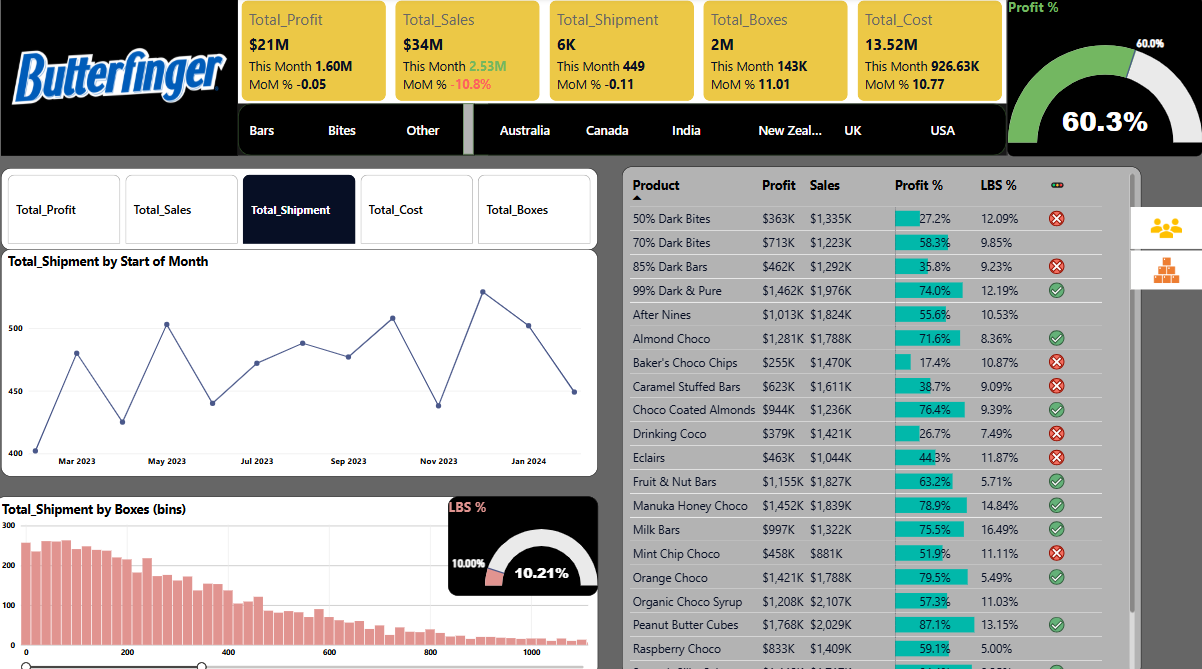

The dashboard page shown, as its layout file describes it:
{"tool":"powerbi","page":{"name":"Sales_report","canvas":[1920,1080],"ordinal":0},"visuals":[{"type":"cardVisual","fields":{"Data":["_Measures.Total_Profit","_Measures.Total_Sales","_Measures.Total_Shipment","_Measures.Total_Boxes","_Measures.Total_Cost"]},"box":[386.2,0,1221.7,170],"z":0},{"type":"gauge","fields":{"Y":["_Measures.Profit %"]},"box":[1610,0,310,253.3],"z":1000},{"type":"advancedSlicerVisual","fields":{"Values":["Measure_Selector.Measure_Selector"]},"box":[10,271.3,949.5,130.6],"z":2000},{"type":"lineChart","fields":{"Y":["_Measures.Total_Shipment"],"Category":["Calendar.Start of Month"]},"box":[10,401.9,949.5,361.7],"z":3000},{"type":"columnChart","fields":{"Category":["shipments.Boxes (bins)"],"Y":["_Measures.Total_Shipment"]},"box":[0,793.8,959.6,286.4],"z":4000},{"type":"gauge","fields":{"Y":["_Measures.LBS %"]},"box":[720.9,793.8,238.6,158.3],"z":5000},{"type":"tableEx","title":"Product Details","fields":{"Values":["products.Product","_Measures.Total_Profit","_Measures.Total_Sales","_Measures.Profit %","_Measures.LBS %","_Measures.Profit_Target_Indicator"]},"box":[998.3,269.6,825.8,811.2],"z":7000},{"type":"shape","box":[386.2,170,1221.7,82.6],"z":8000},{"type":"advancedSlicerVisual","fields":{"Values":["products.Category"]},"box":[386.2,170,376.5,82.6],"z":9000},{"type":"advancedSlicerVisual","fields":{"Values":["shipments.Geography"]},"box":[784.5,170,825.8,82.6],"z":10000},{"type":"image","box":[9.7,0,376.5,252.6],"z":11000},{"type":"image","box":[1806.1,334,114.5,66.8],"z":12000},{"type":"image","box":[1806.1,403.2,114.5,62],"z":13000},{"type":"shape","box":[745.5,170.2,16.8,81.5],"z":14000}]}

Visuals, with their boxes in screenshot pixels (x1, y1, x2, y2), scaled from the page's 1920x1080 canvas onto the 1202x669 screenshot:
cardVisual - _Measures.Total_Profit x _Measures.Total_Sales: <box>242,0,1007,105</box>
gauge - _Measures.Profit %: <box>1008,0,1201,157</box>
advancedSlicerVisual - Measure_Selector.Measure_Selector: <box>6,168,601,249</box>
lineChart - _Measures.Total_Shipment x Calendar.Start of Month: <box>6,249,601,473</box>
columnChart - shipments.Boxes (bins) x _Measures.Total_Shipment: <box>0,492,601,668</box>
gauge - _Measures.LBS %: <box>451,492,601,590</box>
"Product Details" tableEx: <box>625,167,1142,668</box>
shape: <box>242,105,1007,156</box>
advancedSlicerVisual - products.Category: <box>242,105,477,156</box>
advancedSlicerVisual - shipments.Geography: <box>491,105,1008,156</box>
image: <box>6,0,242,156</box>
image: <box>1131,207,1201,248</box>
image: <box>1131,250,1201,288</box>
shape: <box>467,105,477,156</box>
